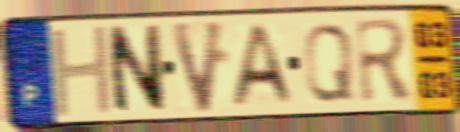A: (227, 22, 298, 110)
H: (48, 22, 117, 121)
N: (104, 21, 168, 118)
Q: (301, 21, 357, 105)
R: (352, 15, 418, 107)
V: (167, 18, 229, 118)
